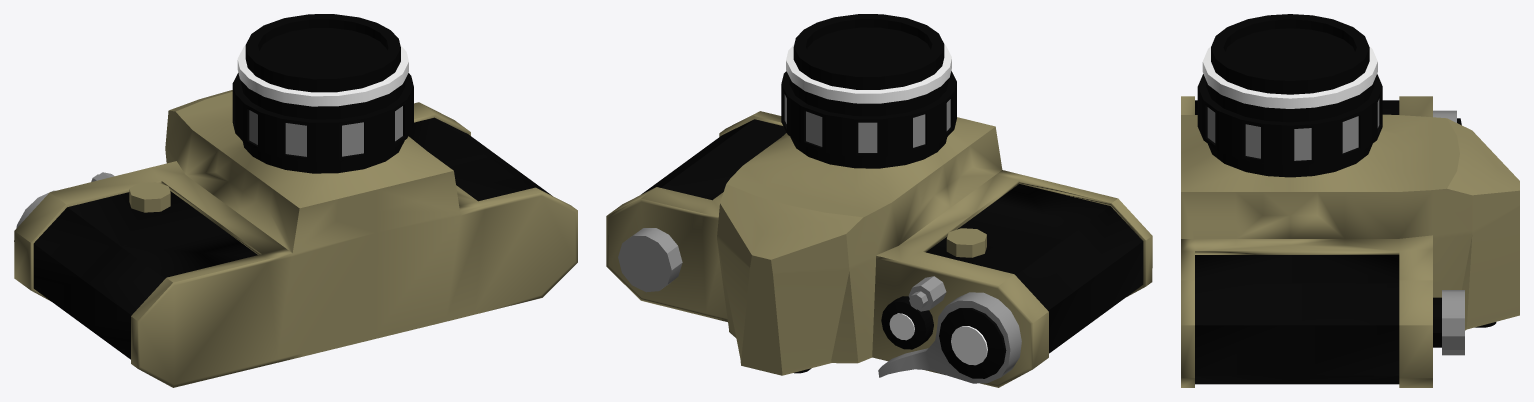
The model's file is Camera.fbx.
3 views of the same model, side by side, from view 1: azimuth 30°, elevation 25°; view 2: azimuth 150°, elevation 25°; view 3: azimuth 270°, elevation 25° (orthographic). The views are drawn at different scales.
Visible parts, largest first — view 1: Cube; view 2: Cube; view 3: Cube.
Part boxes in pixels (<box>): Cube: <box>14,14,577,387</box>; Cube: <box>606,14,1152,387</box>; Cube: <box>1181,14,1519,387</box>.
Size of the model in its own units: 39.14 by 22.31 by 25.56.
